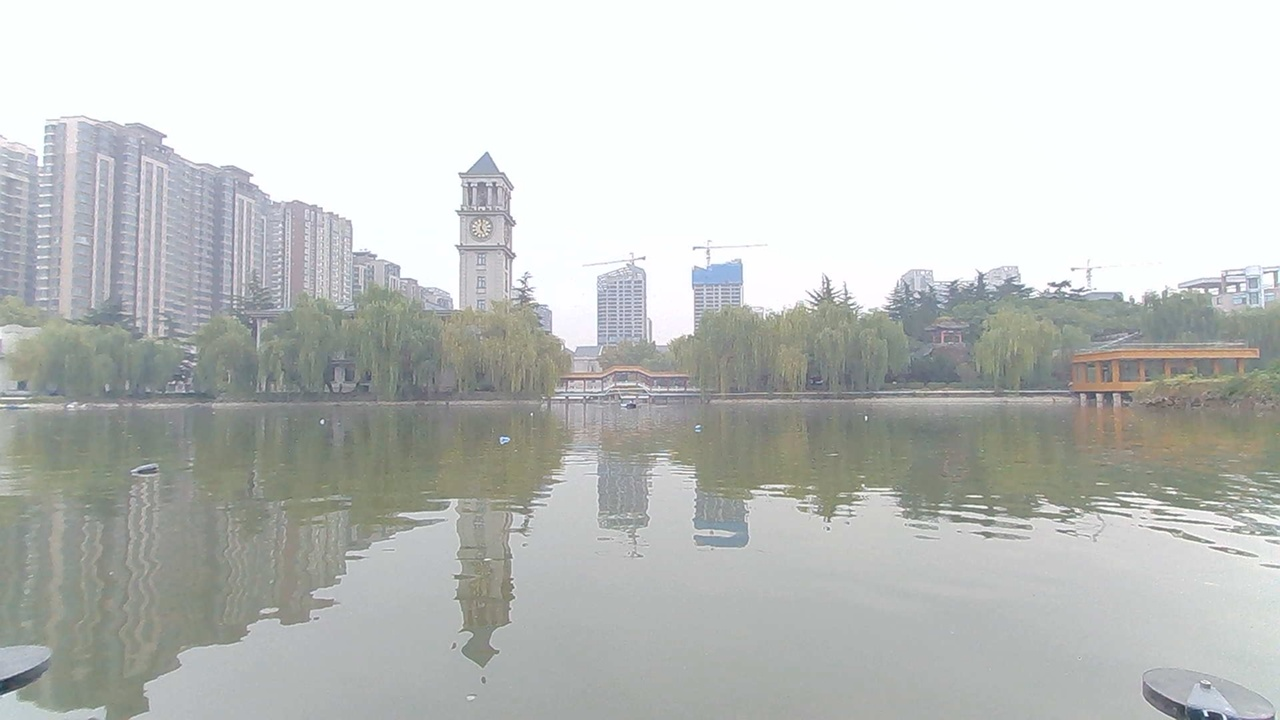bottle: (112, 453, 185, 486), (321, 407, 358, 436), (688, 407, 722, 434), (854, 403, 884, 429), (486, 434, 523, 455), (526, 407, 555, 429)
